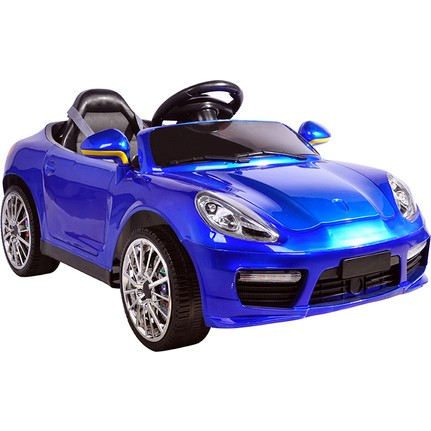ARABA: (2, 78, 431, 353)
